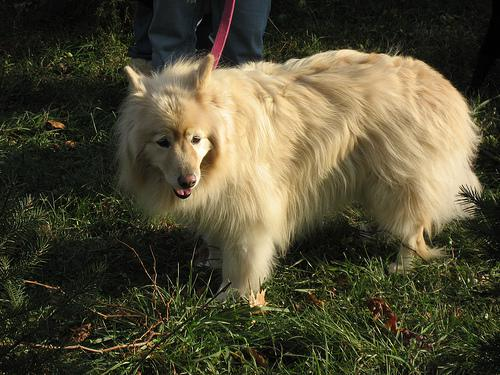dog-samoyed: (121, 53, 216, 197)
